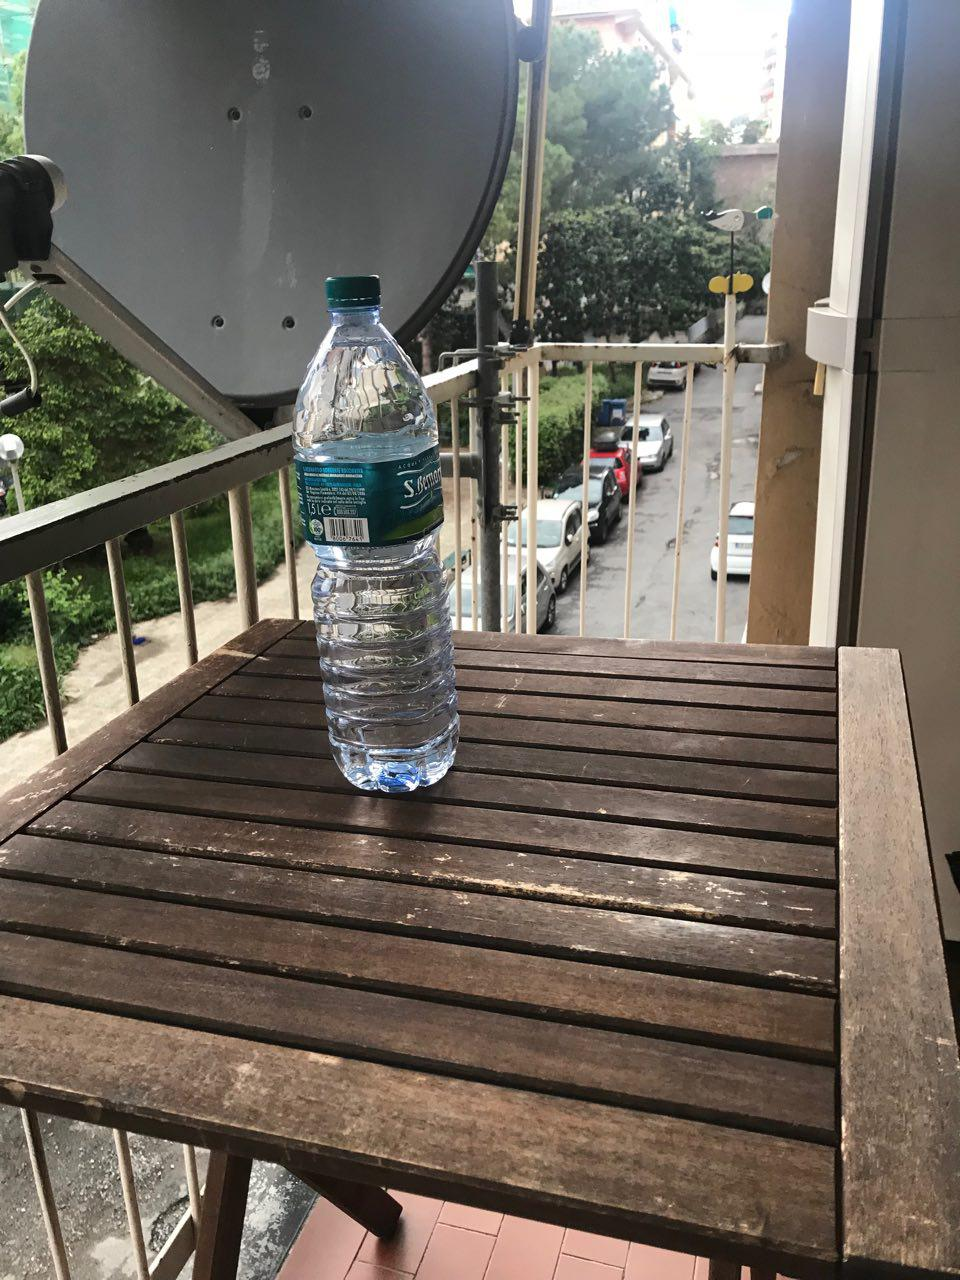san_bernardo: (289, 273, 461, 795)
